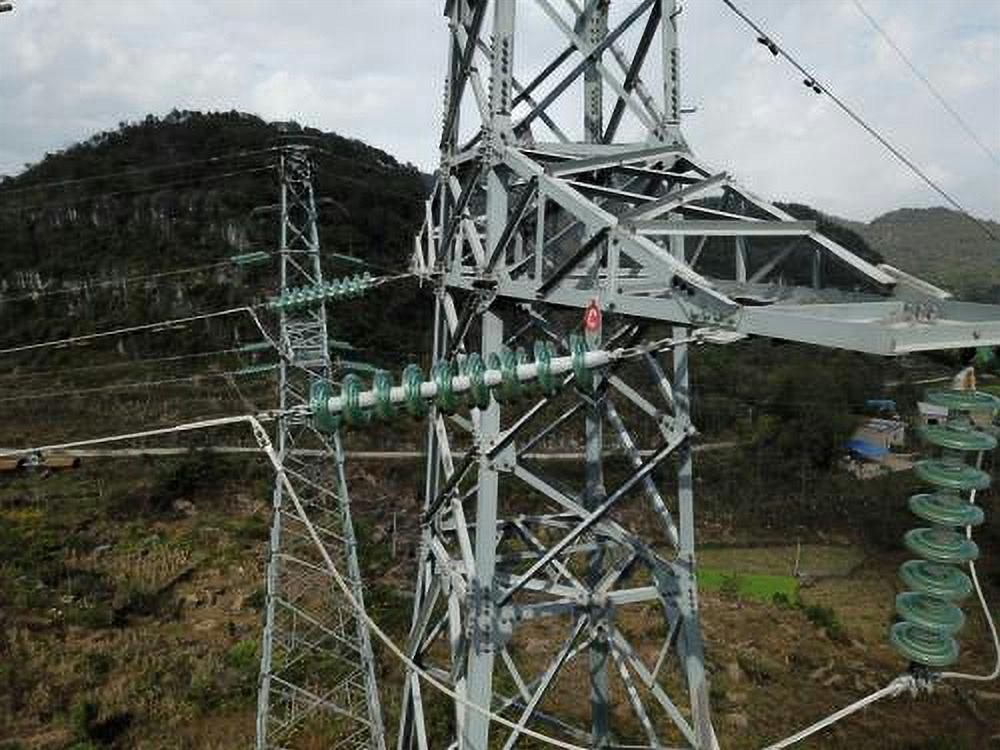insulator: (303, 319, 596, 440), (884, 385, 1000, 673), (263, 267, 377, 319)
